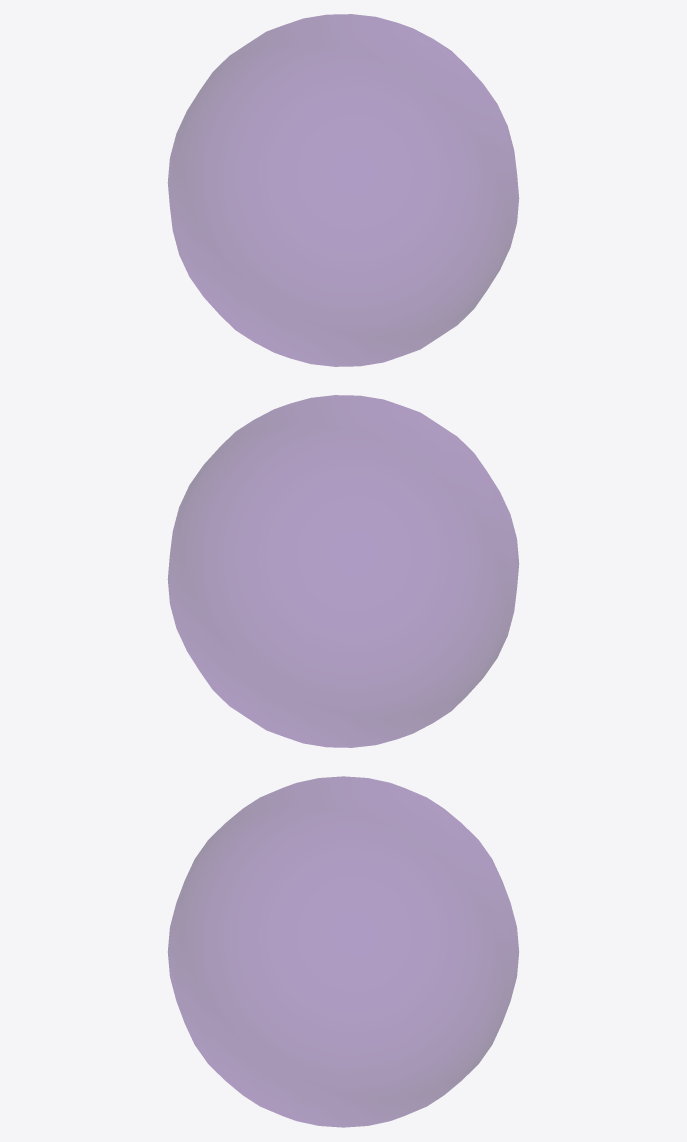
Rendered from planet3.glb.
The picture shows the model from 3 angles, top to bottom: view 1: azimuth 30°, elevation 25°; view 2: azimuth 150°, elevation 25°; view 3: azimuth 270°, elevation 25°; orthographic projection.
Visible parts, largest first — view 1: planet1; view 2: planet1; view 3: planet1.
Part boxes in pixels (<box>): planet1: <box>168,14,518,366</box>; planet1: <box>168,395,518,747</box>; planet1: <box>168,776,518,1127</box>.
Size of the model in its own units: 7.5 by 4 by 7.5.
